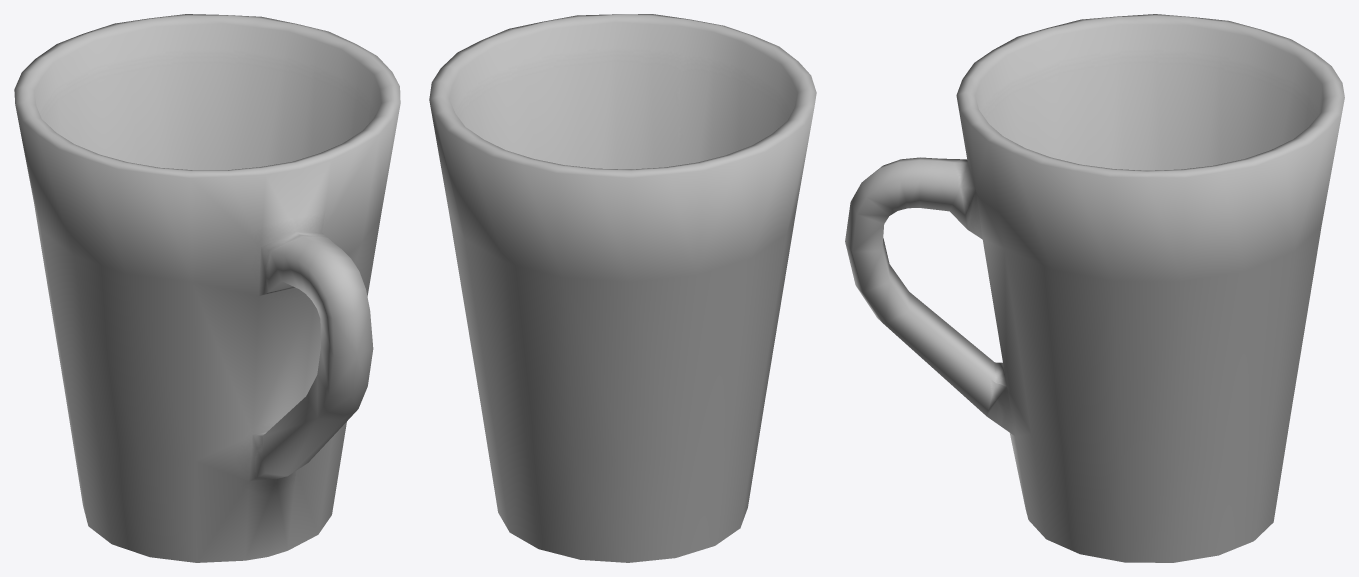
Rendered from SM_Mug_A2.fbx.
3 views of the same model, side by side, from view 1: azimuth 30°, elevation 25°; view 2: azimuth 150°, elevation 25°; view 3: azimuth 270°, elevation 25° (orthographic).
Visible parts, largest first — view 1: SM_Mug_A2; view 2: SM_Mug_A2; view 3: SM_Mug_A2.
Part boxes in pixels (x1,y1,x2,y2): SM_Mug_A2: [14, 14, 400, 562]; SM_Mug_A2: [429, 14, 816, 562]; SM_Mug_A2: [845, 14, 1344, 562].
Bounding box in the file's own units: 9.85 × 12.72 × 11.72.
1 material, 1 textured.
